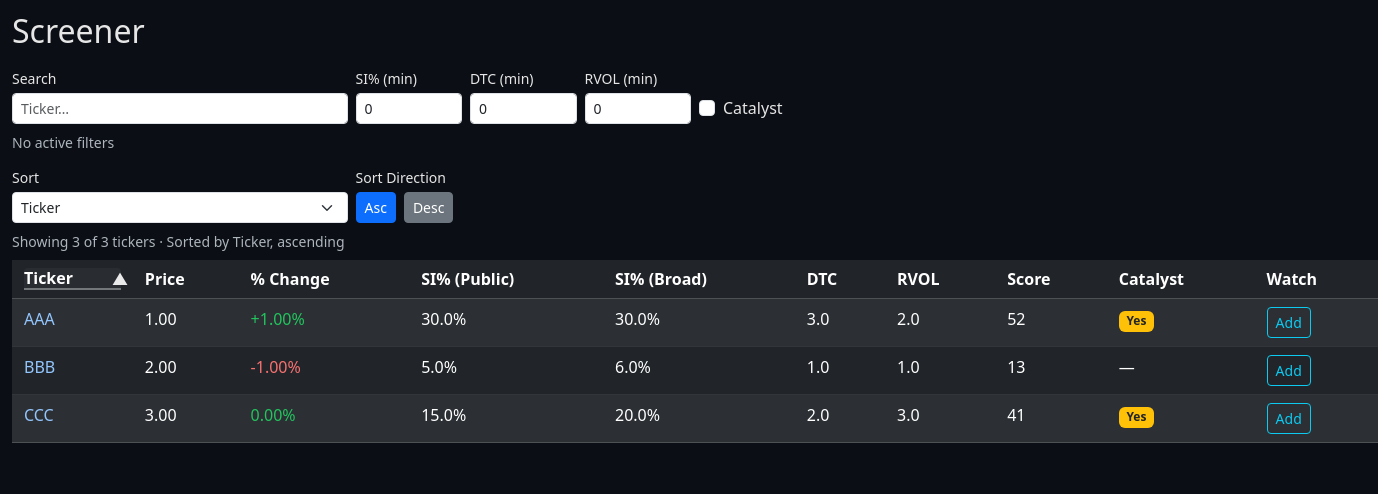
it: ScreenerPage toolbar › updates the summary live when sort and direction change
Select "RVOL" in the dropdown labelled "Sort" at (180, 208), box [12,192,348,223]
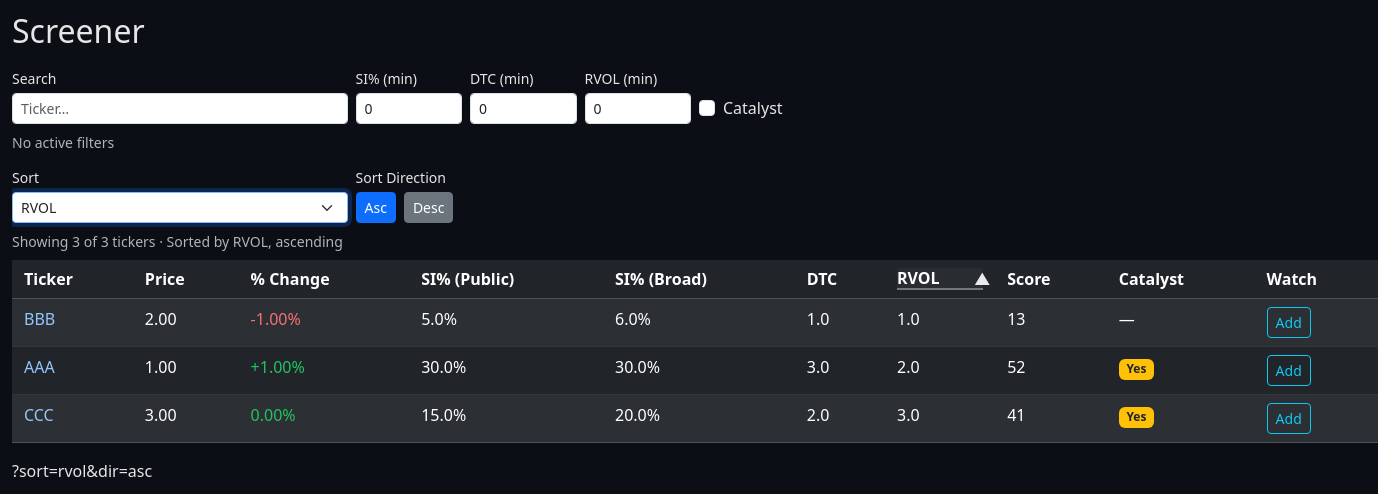
Expected: the message shows "Sorted by RVOL, ascending", [12,232,343,251]
Click the button "Desc" at (429, 208), box [404,192,453,223]
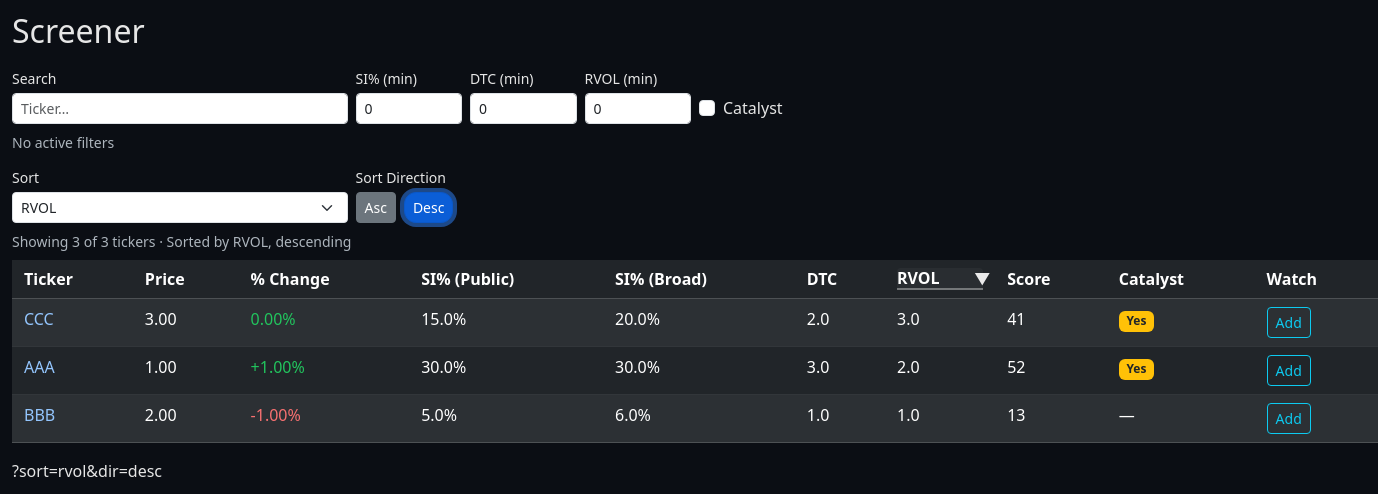
Expected: the row "CCC 3.00 0.00% 15.0% 20.0% 2.0 3.0 41 Yes Add" is shown, [12,299,1377,347]
Expected: the message shows "Sorted by RVOL, descending", [12,232,352,251]
